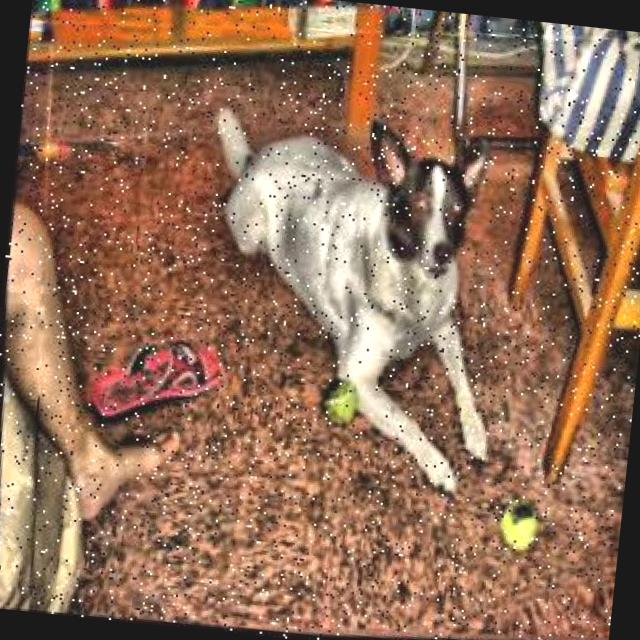Tennis Ball: (316, 374, 362, 433), (492, 498, 538, 555)
